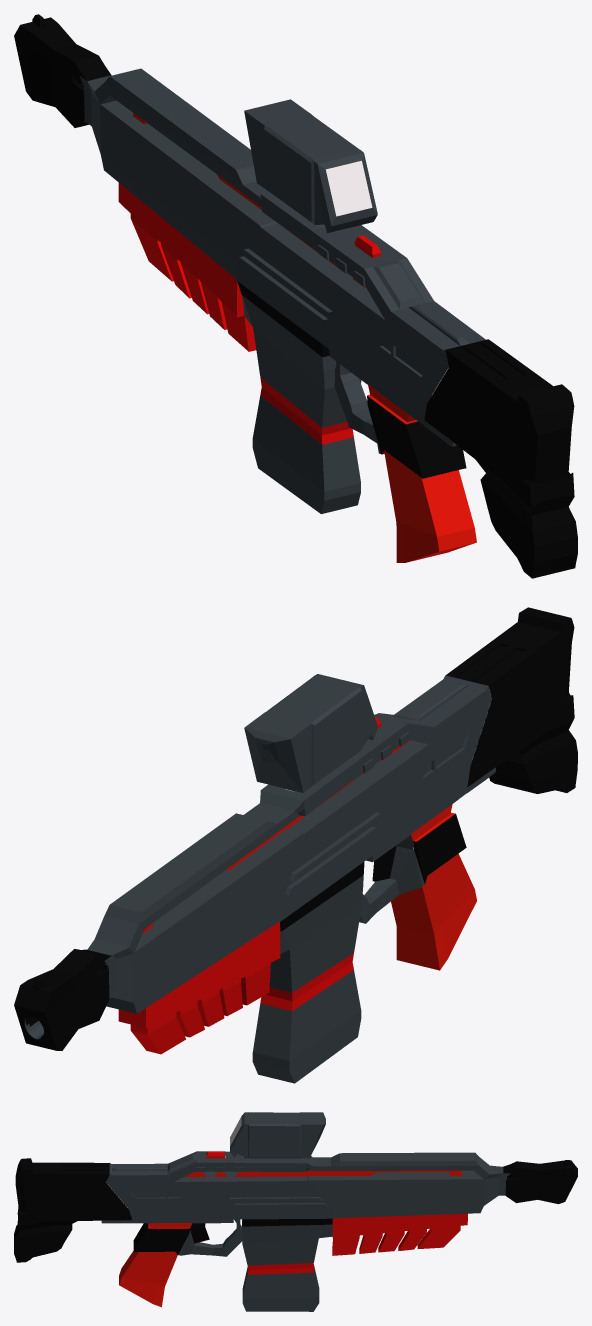
The model's file is Low-Poly_Sci-fi_Rifle.glb.
The picture shows the model from 3 angles, top to bottom: view 1: azimuth 30°, elevation 25°; view 2: azimuth 150°, elevation 25°; view 3: azimuth 270°, elevation 25°; orthographic projection. The views are drawn at different scales.
Parts seen in each view (by area): view 1: Cube, stock, mag, sight, topguard, backgrip, clip, end, top grip, sightscreen, triggerguard, magband (+1 smaller); view 2: Cube, stock, mag, sight, topguard, clip, backgrip, end, triggerguard, top grip, magband, top of mag; view 3: Cube, stock, mag, clip, sight, topguard, end, backgrip, top grip, internalguard, triggerguard, magband (+2 smaller).
Boxes of the visible parts, box(x1,y1,x2,y2) form: Cube: box(80, 76, 485, 446); stock: box(424, 339, 577, 578); mag: box(242, 295, 361, 514); sight: box(244, 99, 377, 233); topguard: box(87, 68, 268, 206); backgrip: box(367, 384, 476, 562); clip: box(118, 183, 256, 351); end: box(14, 14, 111, 127); top grip: box(367, 396, 466, 478); sightscreen: box(325, 160, 372, 216); triggerguard: box(334, 361, 380, 453); magband: box(260, 377, 353, 444); Cube: box(24, 675, 495, 1039); stock: box(446, 607, 577, 793); mag: box(252, 875, 363, 1083); sight: box(244, 674, 377, 792); topguard: box(87, 803, 299, 959); clip: box(118, 922, 280, 1054); backgrip: box(391, 804, 476, 970); end: box(14, 949, 111, 1050); triggerguard: box(359, 846, 424, 923); top grip: box(413, 814, 466, 883); magband: box(260, 953, 353, 1010); top of mag: box(280, 862, 364, 931); Cube: box(101, 1151, 510, 1223); stock: box(14, 1158, 132, 1262); mag: box(240, 1220, 332, 1311); clip: box(332, 1213, 467, 1255); sight: box(230, 1112, 325, 1158); topguard: box(307, 1152, 503, 1179); end: box(503, 1160, 577, 1204); backgrip: box(119, 1223, 192, 1307); top grip: box(133, 1223, 189, 1254); internalguard: box(184, 1170, 462, 1177); triggerguard: box(178, 1219, 242, 1256); magband: box(247, 1263, 313, 1274).
Size of the model in its own units: 0.2677 by 1.73 by 4.68.
